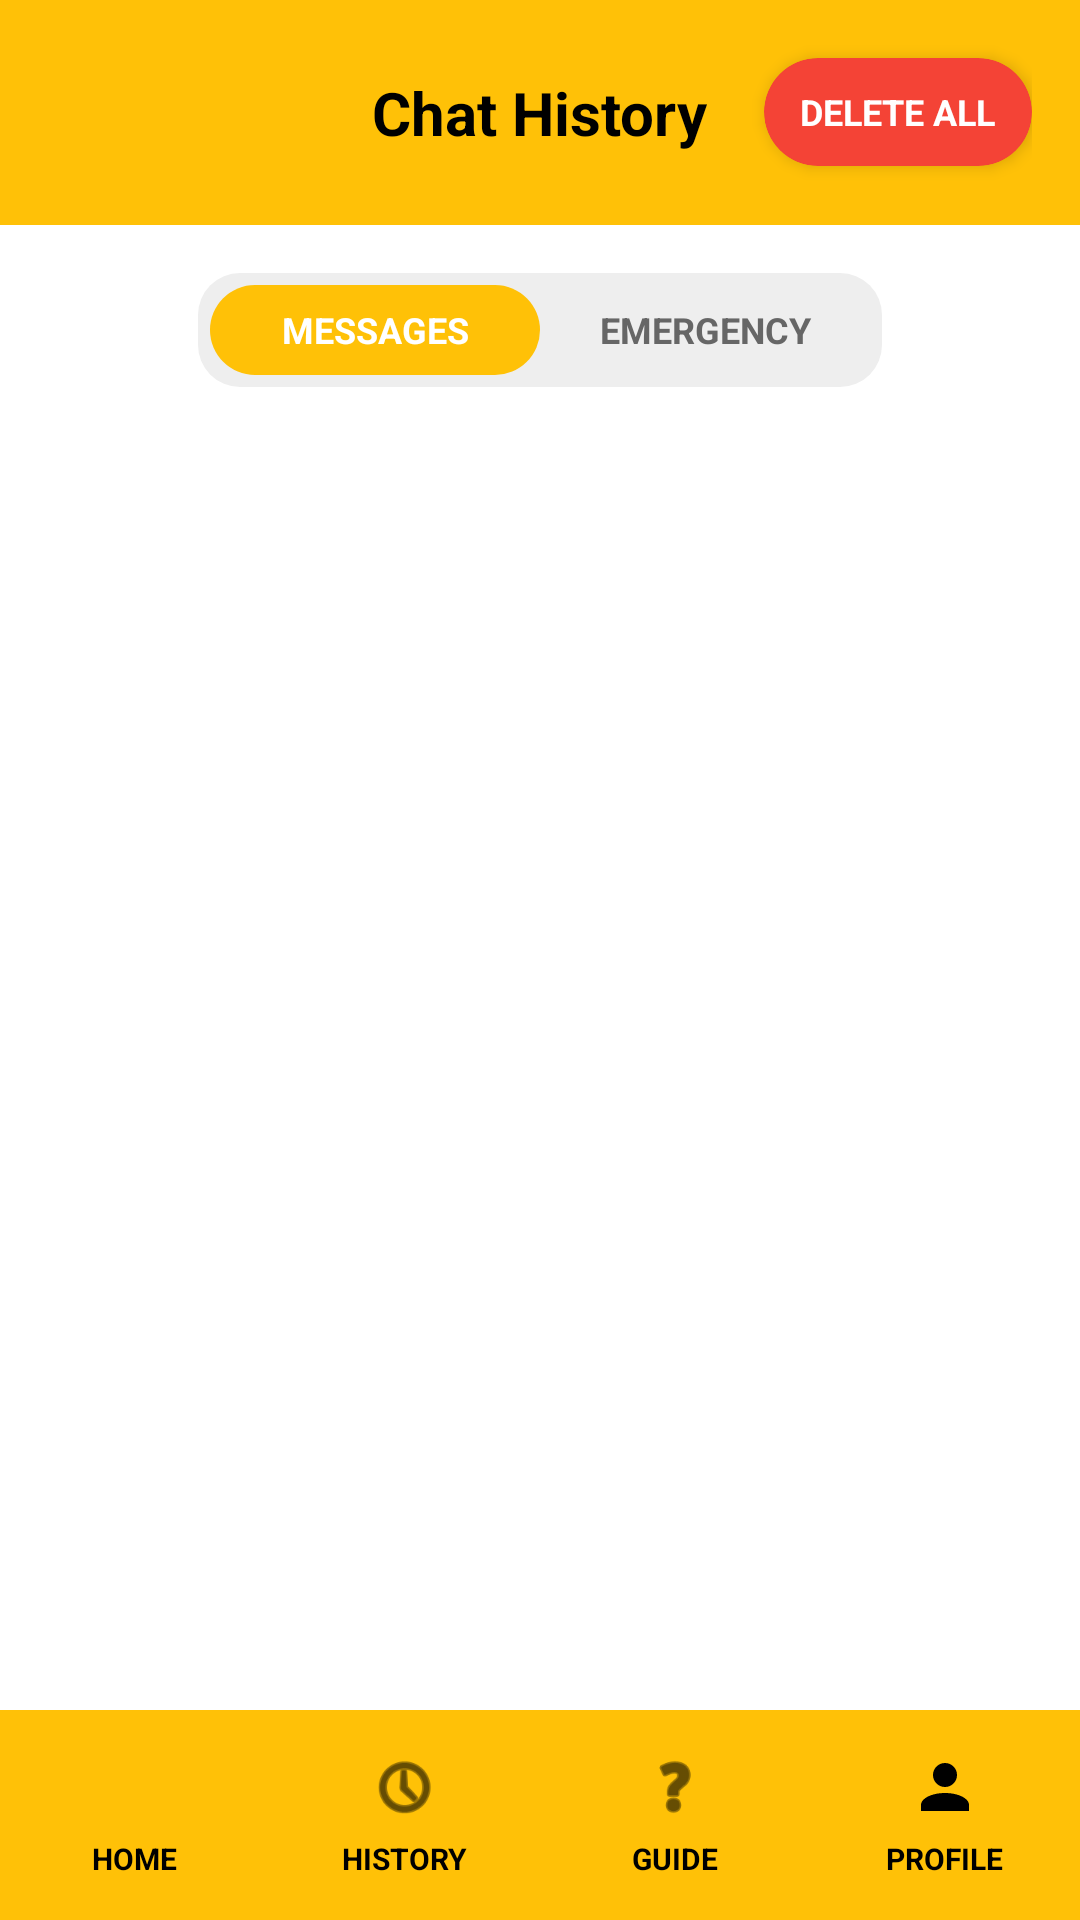

Icons on this 1080*1920 Android screen, each with the point to tap as (x,y):
help: (675,1787)
